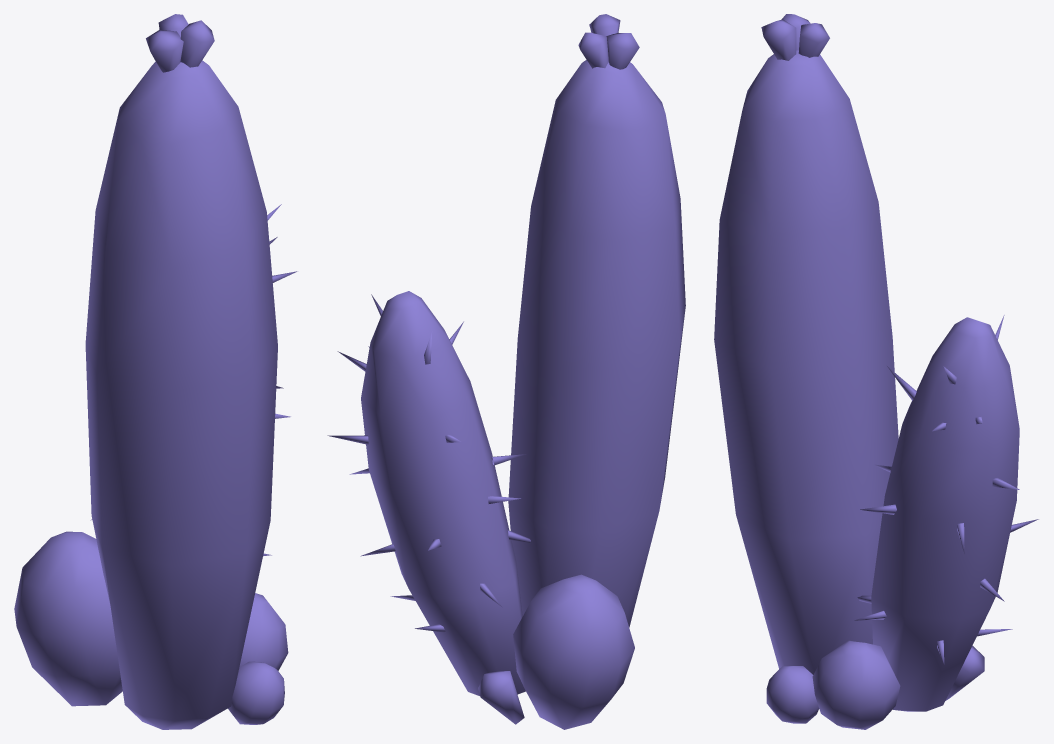
Rendered from Cactus_Short_02.fbx.
3 renders of one model, left to right at view 1: azimuth 30°, elevation 25°; view 2: azimuth 150°, elevation 25°; view 3: azimuth 270°, elevation 25°, orthographic. The views are drawn at different scales.
Parts seen in each view (by area): view 1: Cactus_Short_02; view 2: Cactus_Short_02; view 3: Cactus_Short_02.
Part boxes in pixels (<box>): Cactus_Short_02: <box>14,14,297,729</box>; Cactus_Short_02: <box>327,14,685,729</box>; Cactus_Short_02: <box>714,14,1038,729</box>.
Bounding box in the file's own units: 64.01 × 153 × 67.07.
